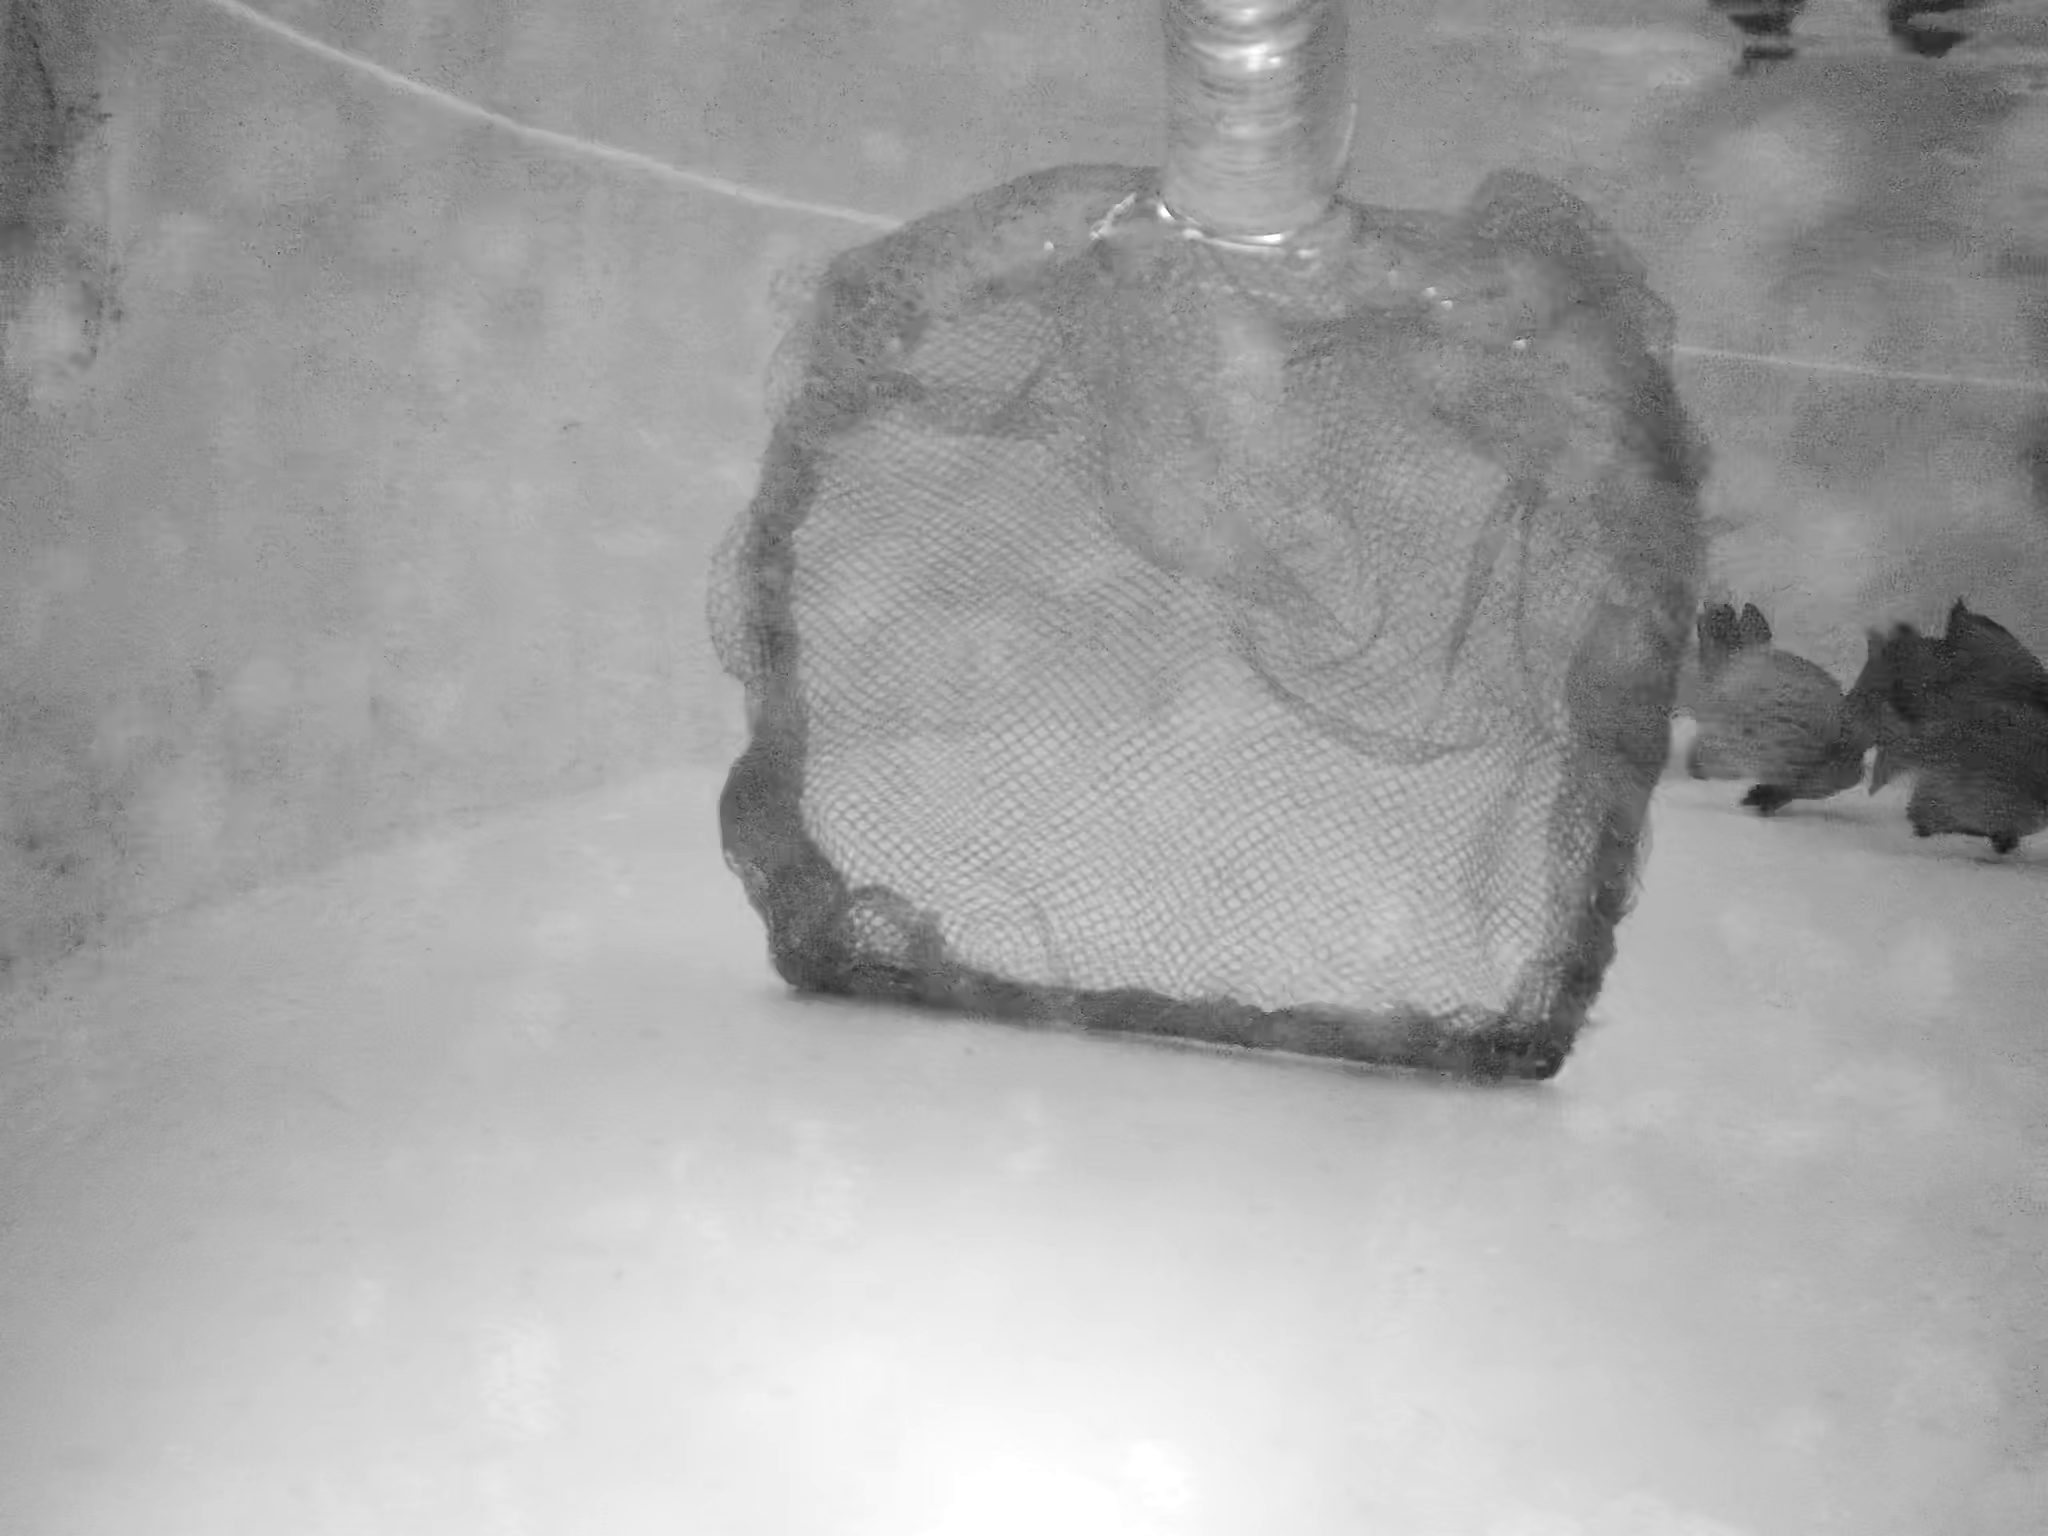fish: (1651, 613, 1859, 803), (1842, 720, 2048, 858), (1888, 574, 2048, 736), (1830, 607, 1958, 795)
